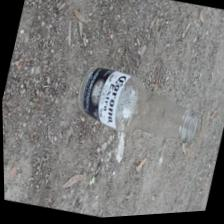glass: (69, 55, 214, 156)
